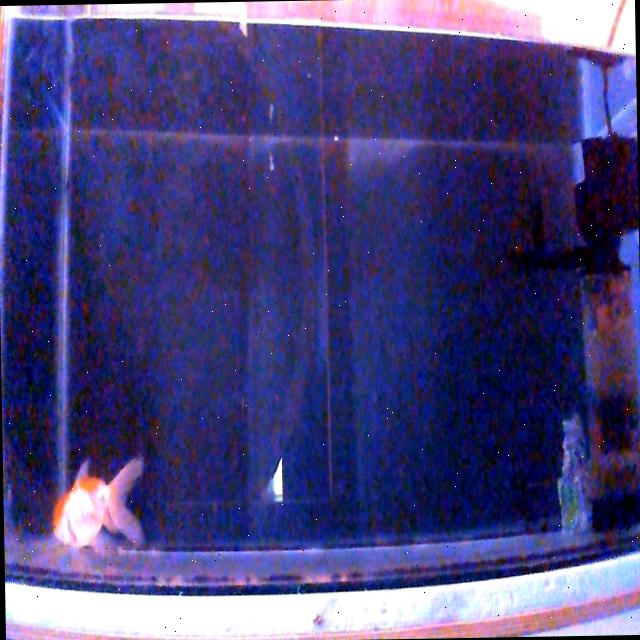fish: (50, 453, 147, 552)
